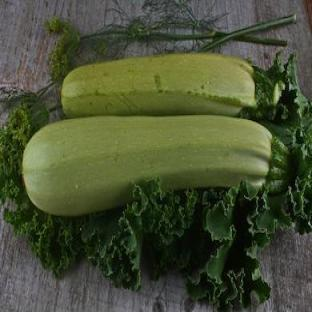Zucchini: (23, 117, 287, 215), (62, 54, 255, 117)
